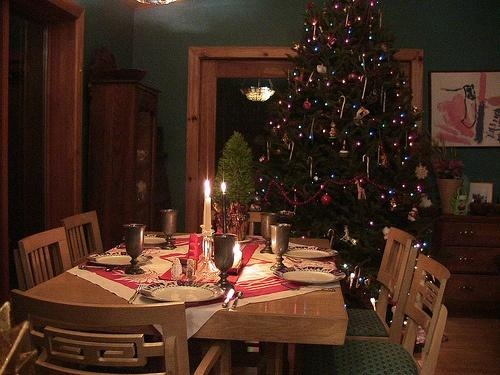chair: (12, 287, 228, 375), (329, 253, 450, 375), (338, 227, 416, 338)
diningtable: (26, 229, 348, 375)
